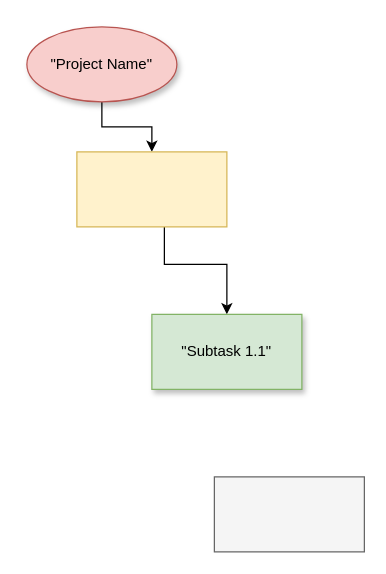
The diagram is 386 pixels wide and 574 high, and some of its shapes have lost their labels. The shapes that lost their labels are listed below. From the top down, each one's centre as x and y in pixels, then its label:
the point at 151,189: "Task 1"
the point at 288,514: "Activity 1.1.1"
